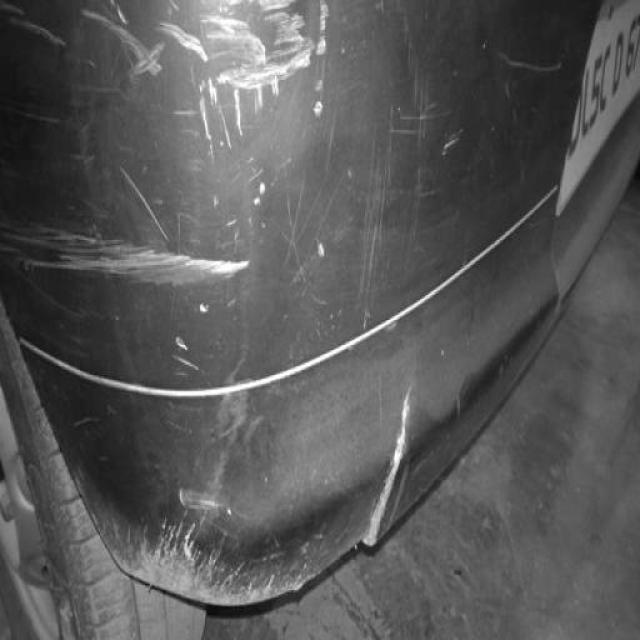car damage: (0, 256, 604, 294), (0, 0, 227, 4)
